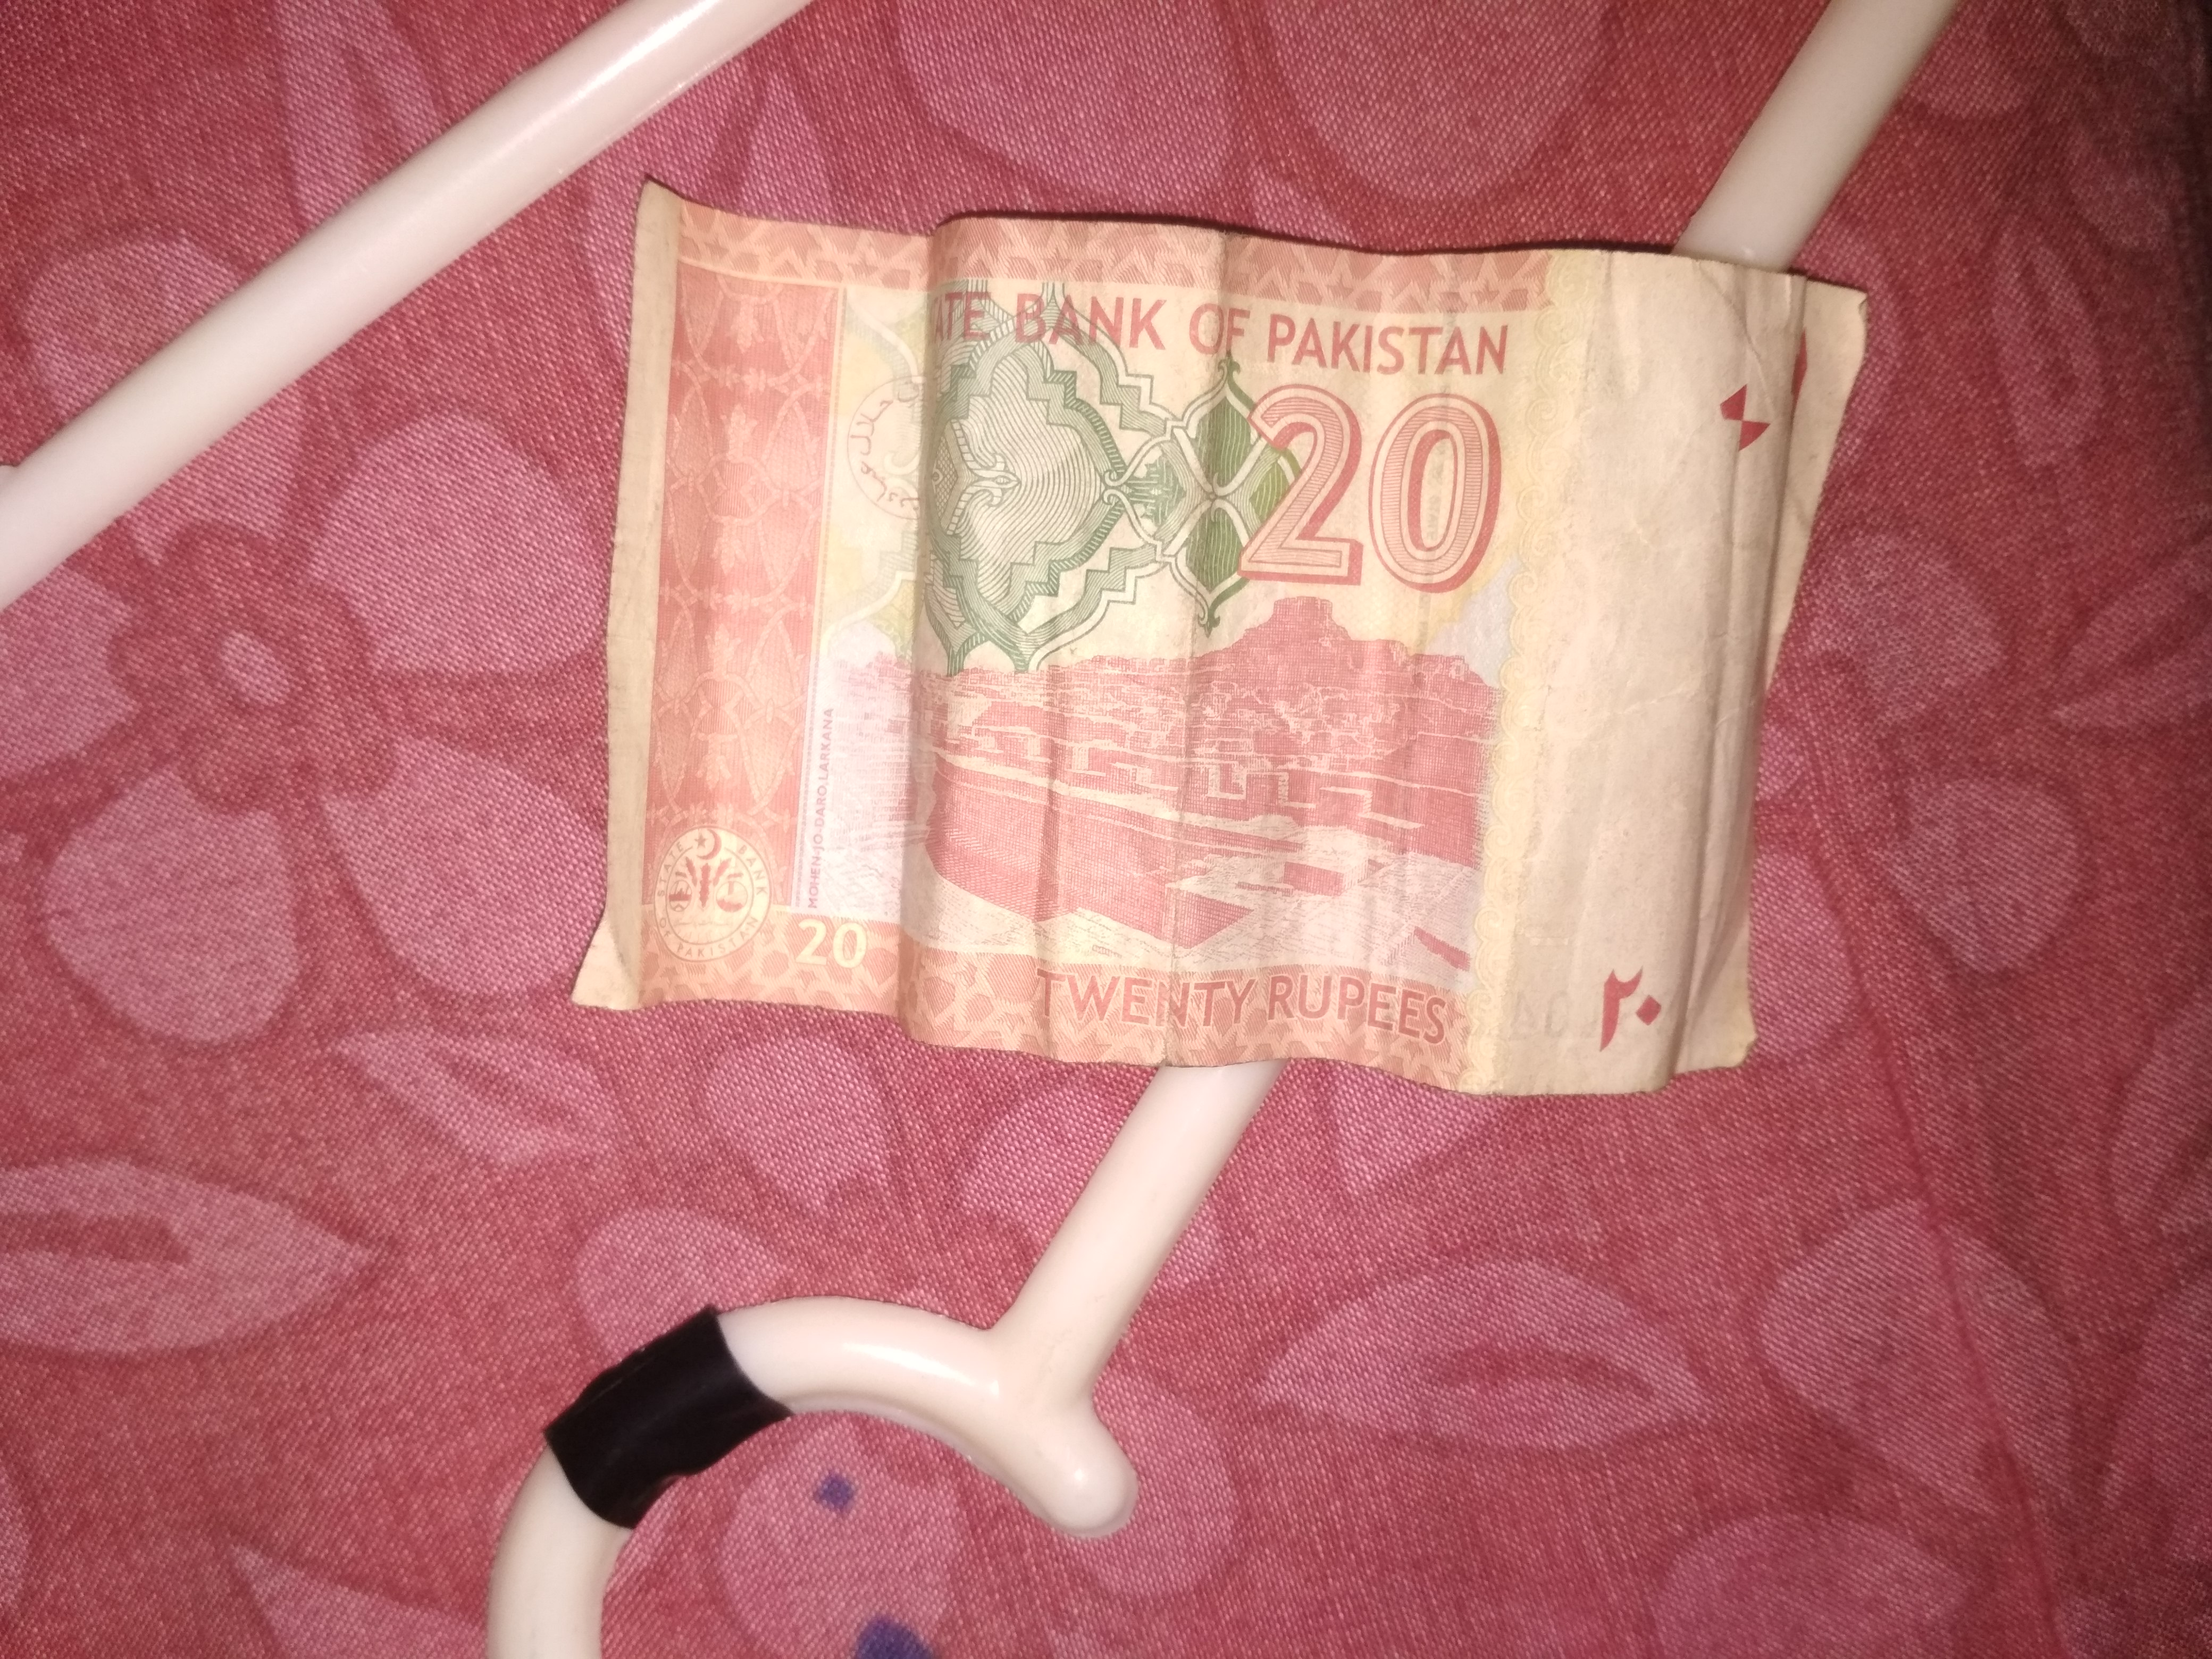20 rupee: (488, 99, 1918, 1077)
